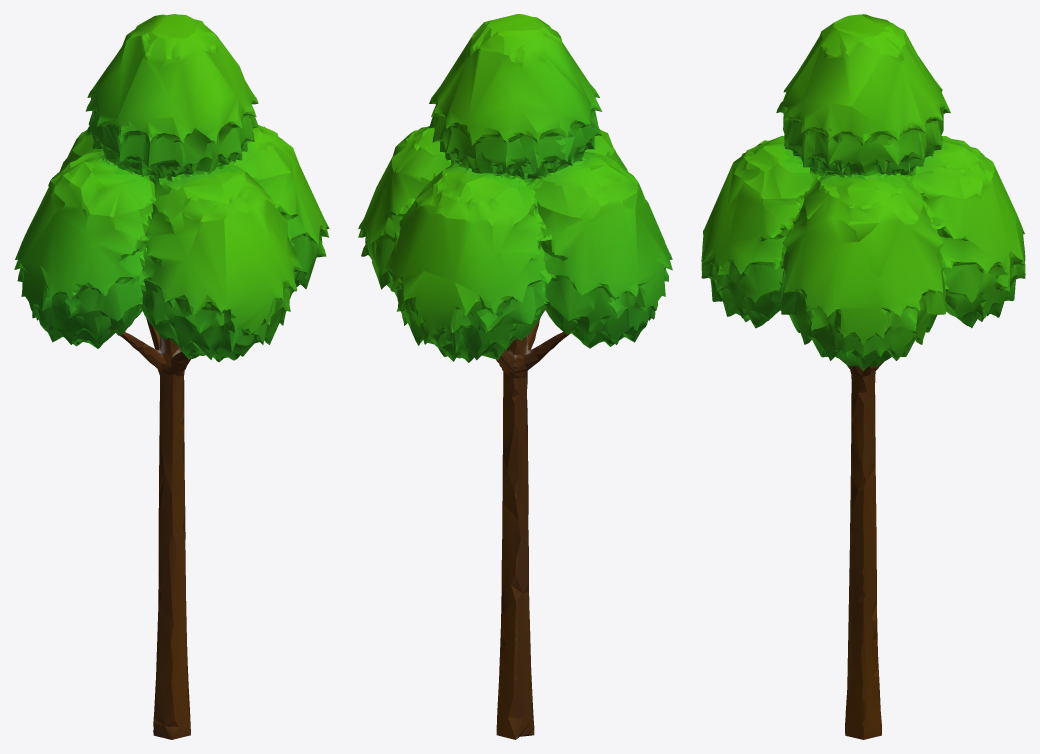
File: poplar.glb
3 renders of one model, left to right at view 1: azimuth 30°, elevation 25°; view 2: azimuth 150°, elevation 25°; view 3: azimuth 270°, elevation 25°, orthographic.
Visible parts, largest first — view 1: poplar; view 2: poplar; view 3: poplar.
Part boxes in pixels (x1,y1,x2,y2): poplar: (14, 14, 329, 739); poplar: (358, 14, 672, 739); poplar: (701, 14, 1025, 739).
Size of the model in its own units: 0.7917 by 1.9 by 0.7889.
1 material, 1 textured.
